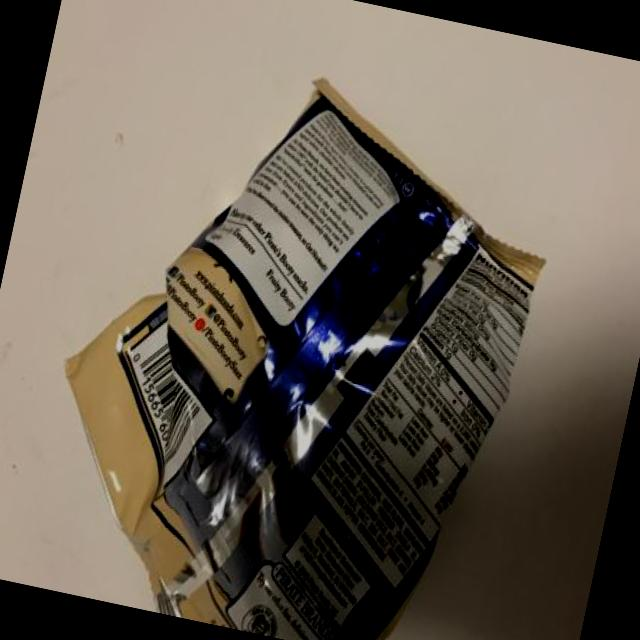Trash: (14, 30, 576, 640)
